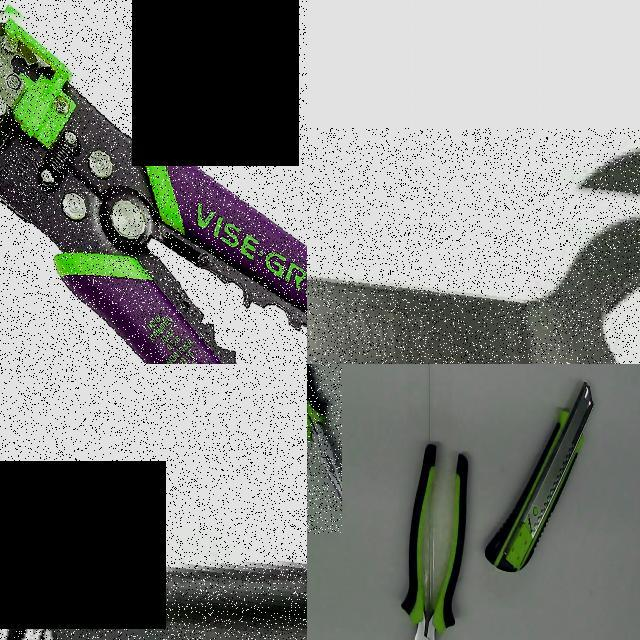estilete: (487, 382, 592, 571)
